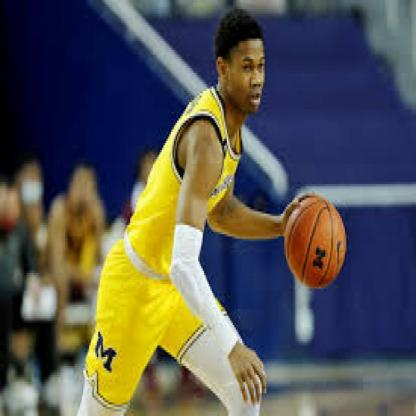basketball: (286, 198, 348, 288)
